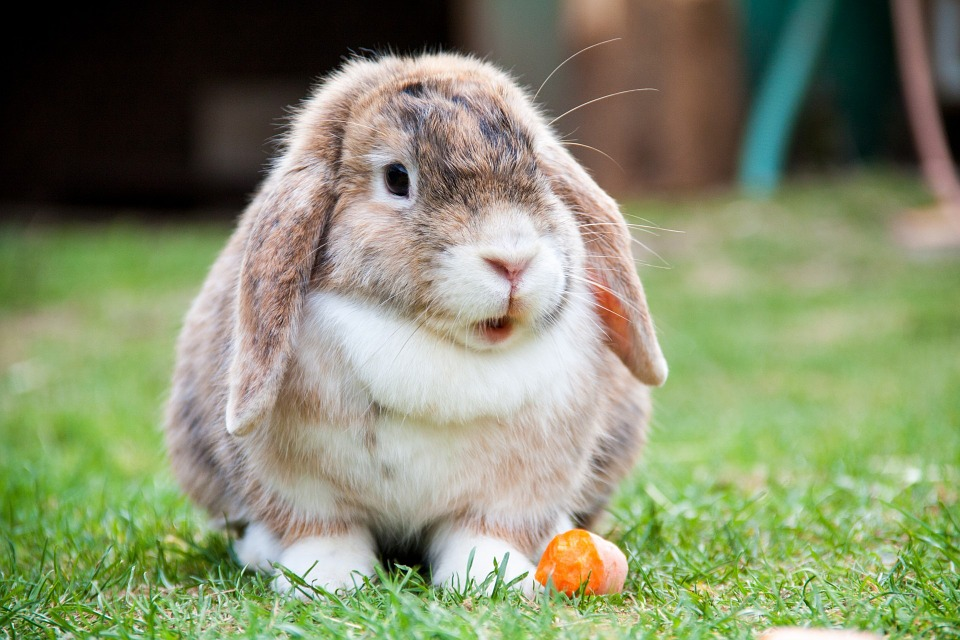bunny: (150, 26, 670, 606)
